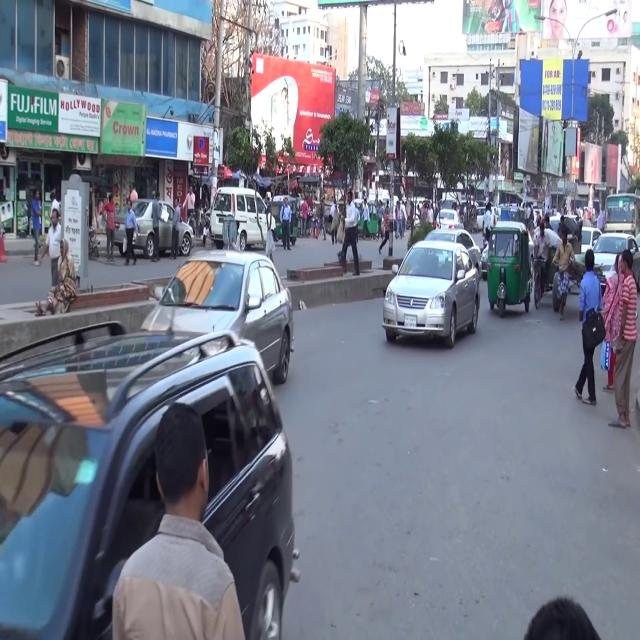black: (0, 319, 301, 638)
silver: (139, 248, 294, 385), (109, 190, 193, 265)
white: (382, 238, 481, 348), (208, 181, 272, 256)
